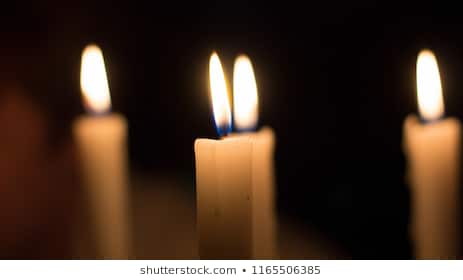Fire: (76, 41, 114, 111), (205, 48, 232, 138), (413, 48, 445, 123), (234, 54, 260, 133)
